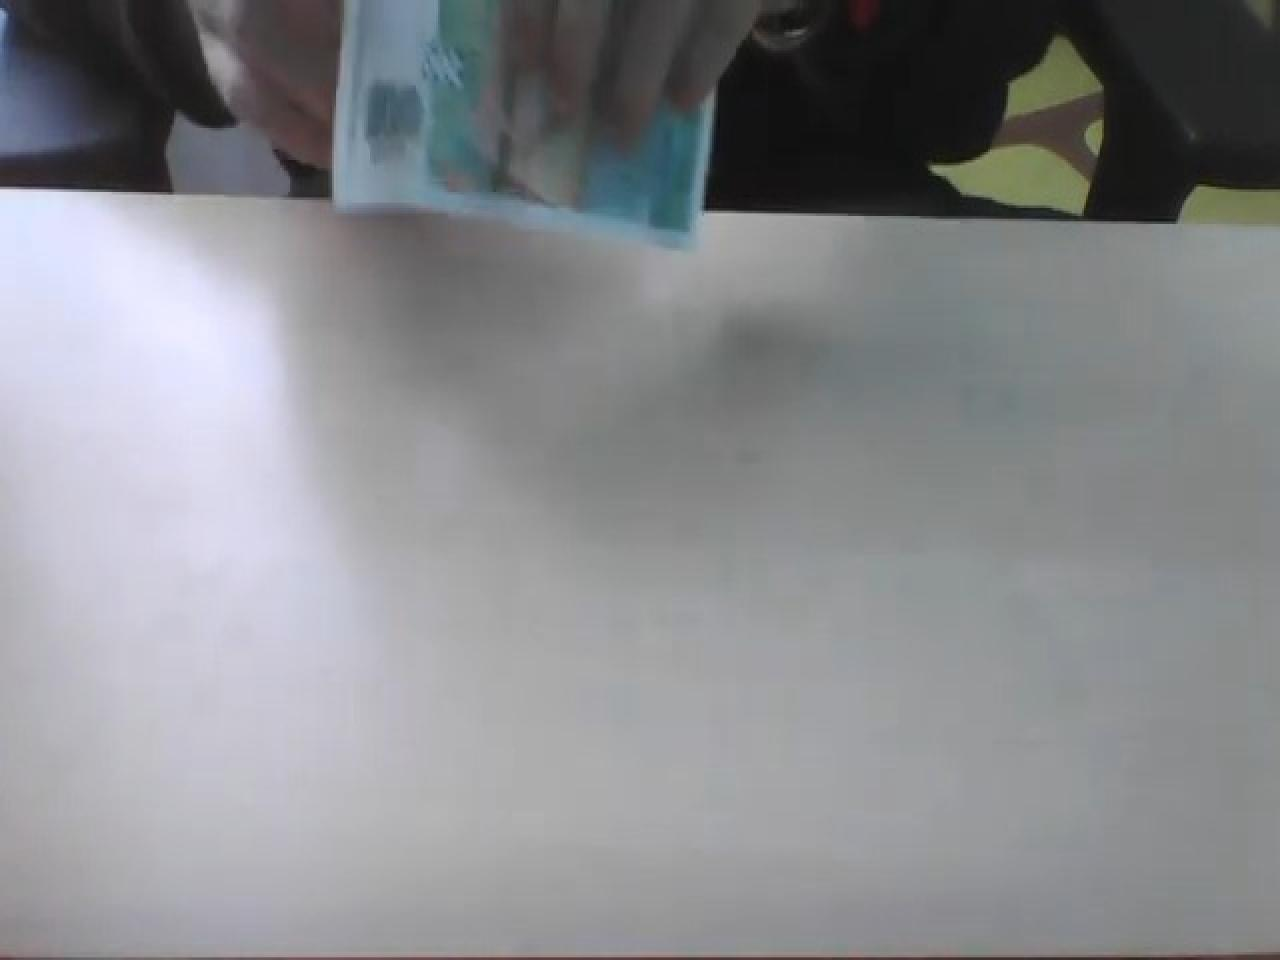100leva: (328, 0, 720, 251)
